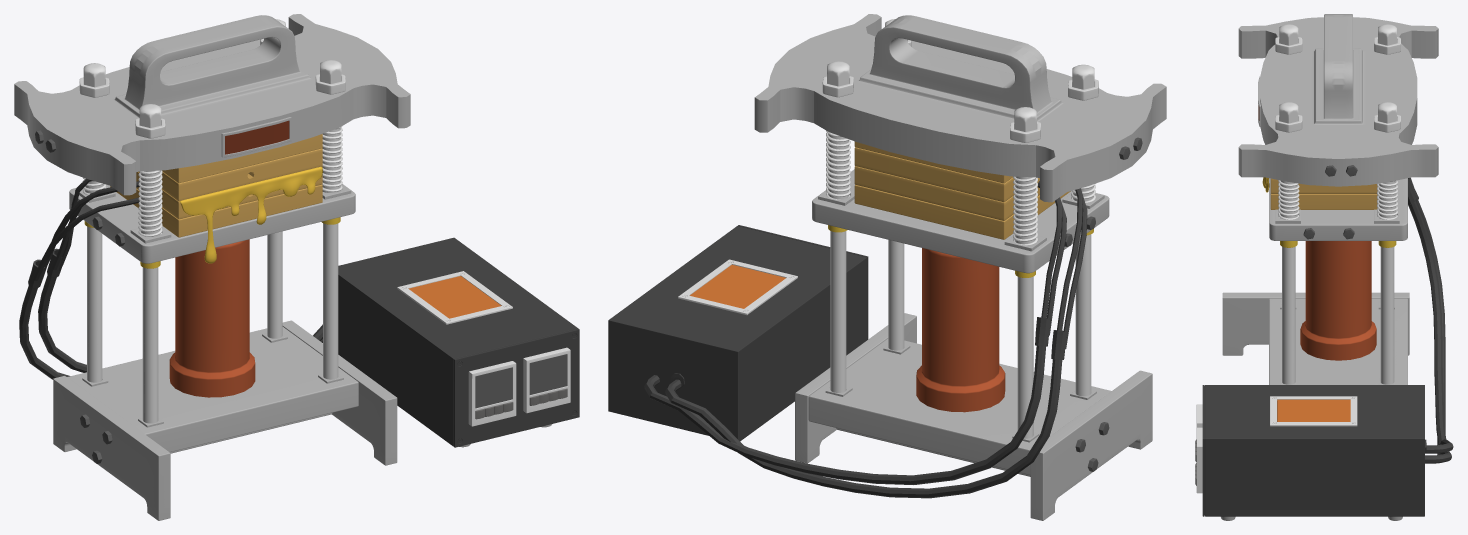
File: pressModel-transformed.glb
The picture shows the model from 3 angles, left to right: view 1: azimuth 30°, elevation 25°; view 2: azimuth 150°, elevation 25°; view 3: azimuth 270°, elevation 25°; orthographic projection. The views are drawn at different scales.
Visible parts, largest first — view 1: Mesh_55, Mesh_3.001, Mesh_39, Mesh_17, Mesh_21, Mesh_41, Mesh_30, Mesh_59, Mesh_45, Mesh_23, Mesh_28, Mesh_20 (+19 smaller); view 2: Mesh_55, Mesh_3.001, Mesh_39, Mesh_17, Mesh_21, Mesh_41, Mesh_23, Mesh_56, Mesh_28, Mesh_61, Mesh_45, Mesh_30 (+12 smaller); view 3: Mesh_3.001, Mesh_55, Mesh_17, Mesh_39, Mesh_41, Mesh_21, Mesh_56, Mesh_31, Mesh_25, Mesh_4, Mesh_28, Mesh_23 (+9 smaller).
Part boxes in pixels (left/top/right/bottom): Mesh_55: left=14, top=14, right=410, bottom=195; Mesh_3.001: left=338, top=237, right=579, bottom=447; Mesh_39: left=67, top=327, right=358, bottom=452; Mesh_17: left=169, top=239, right=255, bottom=397; Mesh_21: left=53, top=376, right=170, bottom=520; Mesh_41: left=69, top=184, right=355, bottom=263; Mesh_30: left=282, top=320, right=397, bottom=465; Mesh_59: left=179, top=166, right=322, bottom=263; Mesh_45: left=138, top=148, right=322, bottom=201; Mesh_23: left=19, top=181, right=322, bottom=379; Mesh_28: left=110, top=184, right=322, bottom=237; Mesh_20: left=142, top=267, right=158, bottom=423; Mesh_55: left=754, top=14, right=1166, bottom=202; Mesh_3.001: left=608, top=225, right=868, bottom=441; Mesh_39: left=808, top=338, right=1111, bottom=475; Mesh_17: left=916, top=248, right=1005, bottom=412; Mesh_21: left=1030, top=370, right=1152, bottom=520; Mesh_41: left=812, top=169, right=1109, bottom=273; Mesh_23: left=665, top=188, right=1087, bottom=498; Mesh_56: left=644, top=181, right=1066, bottom=484; Mesh_28: left=854, top=185, right=1070, bottom=239; Mesh_61: left=854, top=166, right=1039, bottom=220; Mesh_45: left=854, top=147, right=1014, bottom=202; Mesh_30: left=795, top=313, right=916, bottom=463; Mesh_3.001: left=1202, top=385, right=1424, bottom=516; Mesh_55: left=1238, top=14, right=1438, bottom=186; Mesh_17: left=1300, top=241, right=1376, bottom=360; Mesh_39: left=1269, top=298, right=1407, bottom=384; Mesh_41: left=1269, top=178, right=1407, bottom=240; Mesh_21: left=1222, top=292, right=1409, bottom=355; Mesh_56: left=1408, top=178, right=1451, bottom=463; Mesh_31: left=1380, top=247, right=1394, bottom=384; Mesh_25: left=1282, top=246, right=1295, bottom=384; Mesh_4: left=1277, top=399, right=1350, bottom=421; Mesh_28: left=1270, top=193, right=1377, bottom=209; Mesh_23: left=1408, top=177, right=1453, bottom=454.
Bounding box in the file's own units: 9.39 × 8.02 × 5.17.
